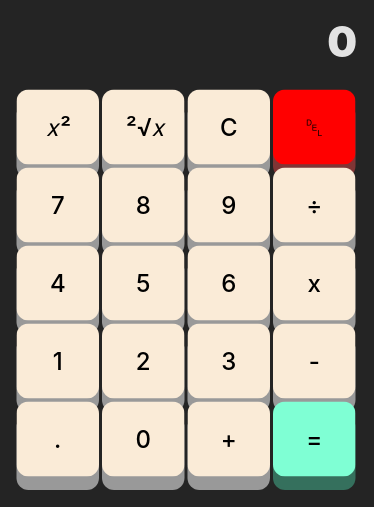
Test case: Keyboard test › should be able to type numbers
Click the button "3" at (229, 361), box [188,324,270,398]
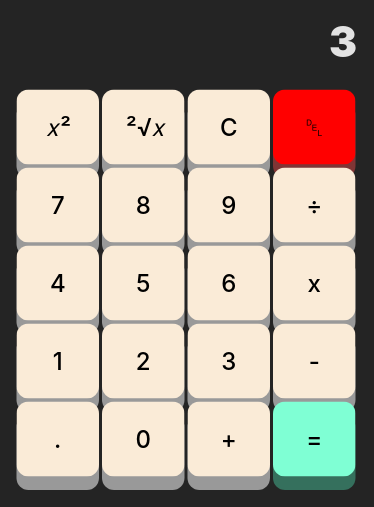
Click the button "2" at (143, 361), box [102,324,184,398]
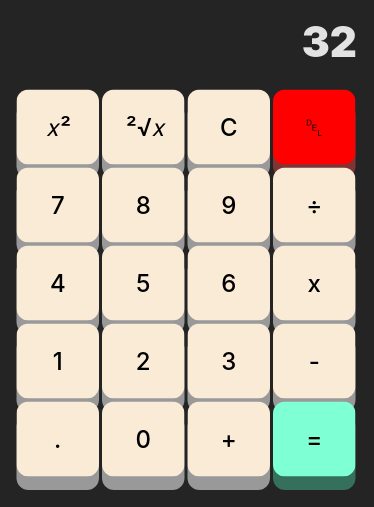
Click the button "5" at (143, 283), box [102,246,184,320]
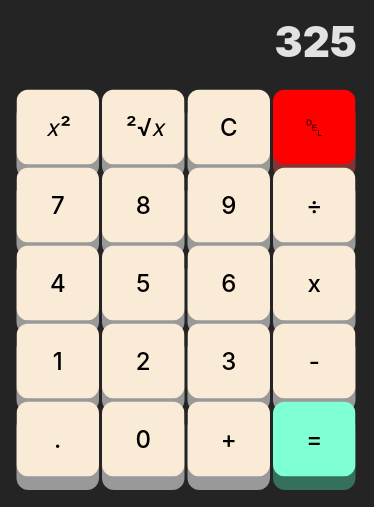
Click the button "6" at (229, 283), box [188,246,270,320]
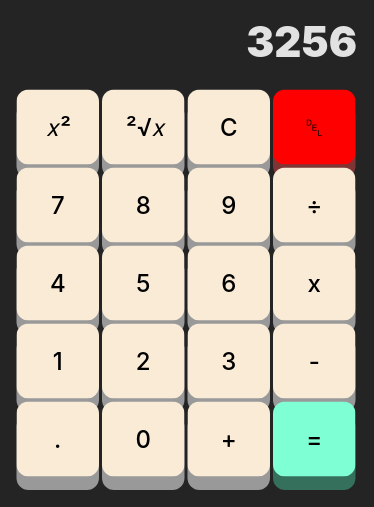
Click the button "7" at (58, 205), box [16,168,99,242]
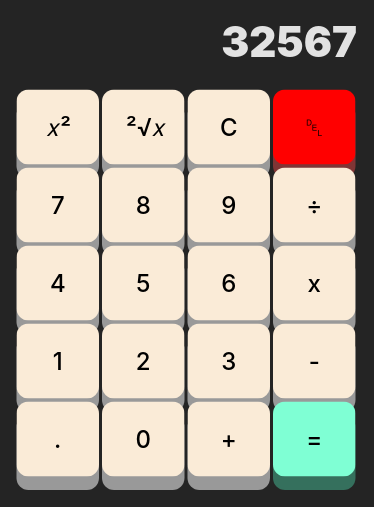
expect the text with test id "mainDisplayVal" reads "32567": met, box [221,16,357,67]
